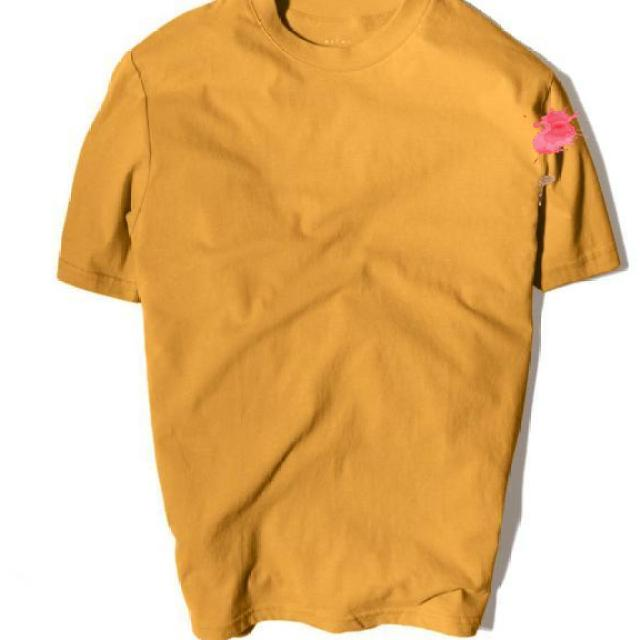stain: (522, 102, 586, 161)
